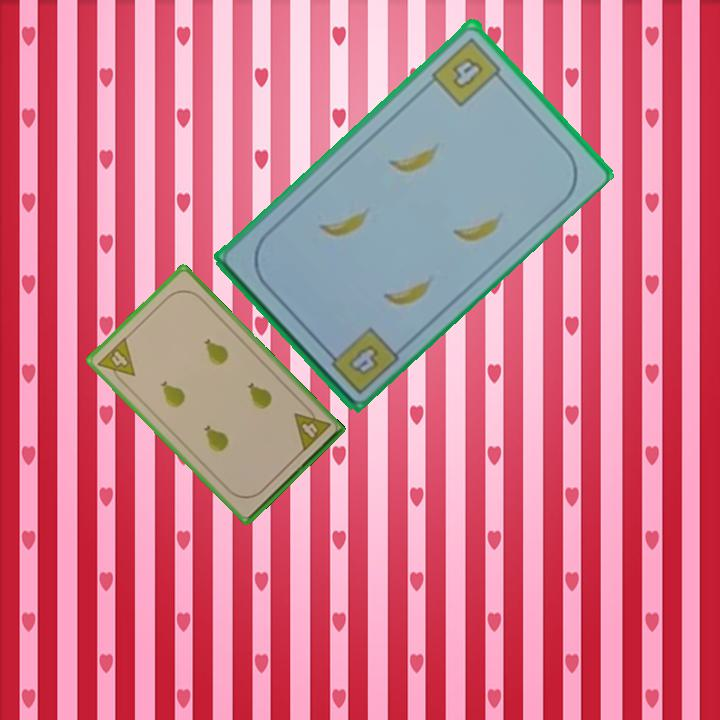4b: (319, 323, 402, 397), (428, 33, 508, 109)
4p: (93, 333, 138, 388), (290, 401, 333, 455)
